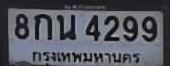2: (103, 14, 118, 40)
4: (85, 14, 99, 40)
8: (14, 13, 28, 38)
9: (141, 15, 156, 41), (122, 15, 137, 41)
A01: (33, 13, 51, 39)
A25: (56, 13, 75, 39)
BKK: (28, 47, 140, 66)
